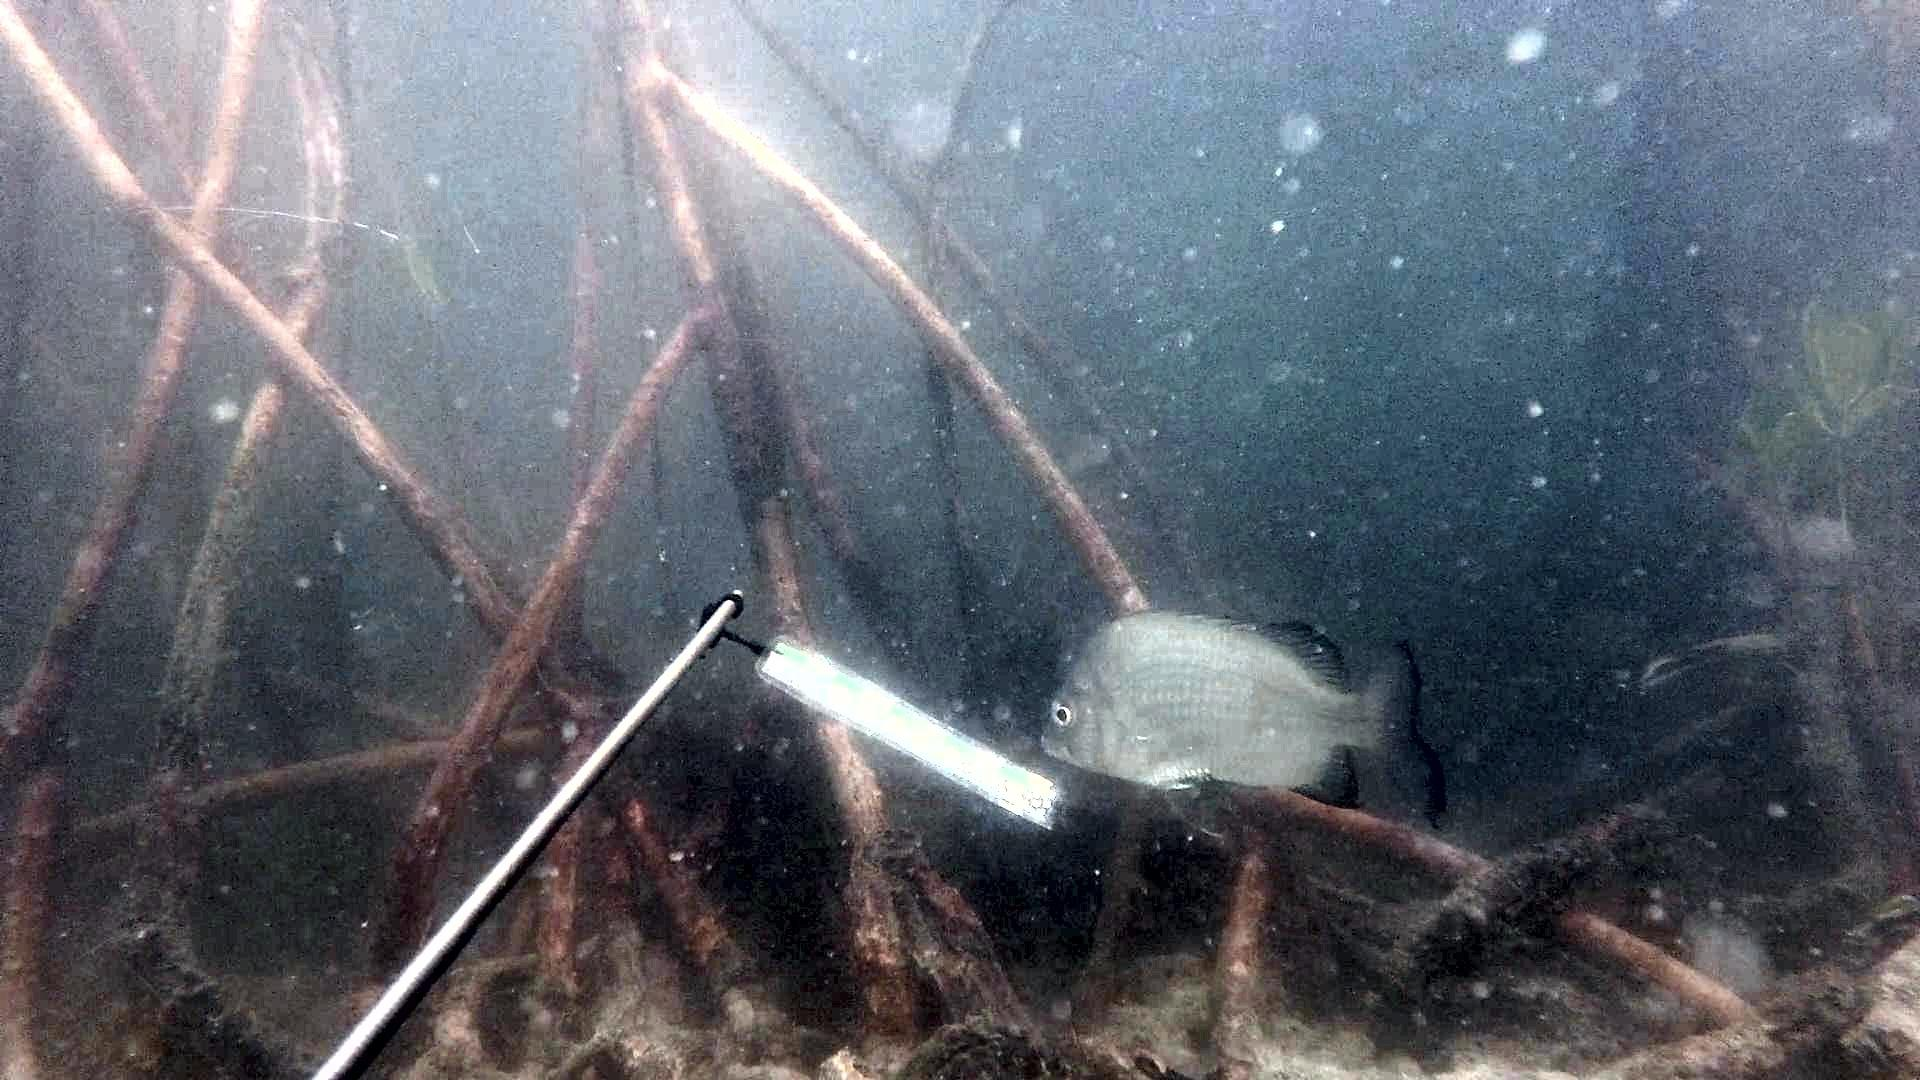acanthopagrus palmaris: (1035, 601, 1464, 853)
